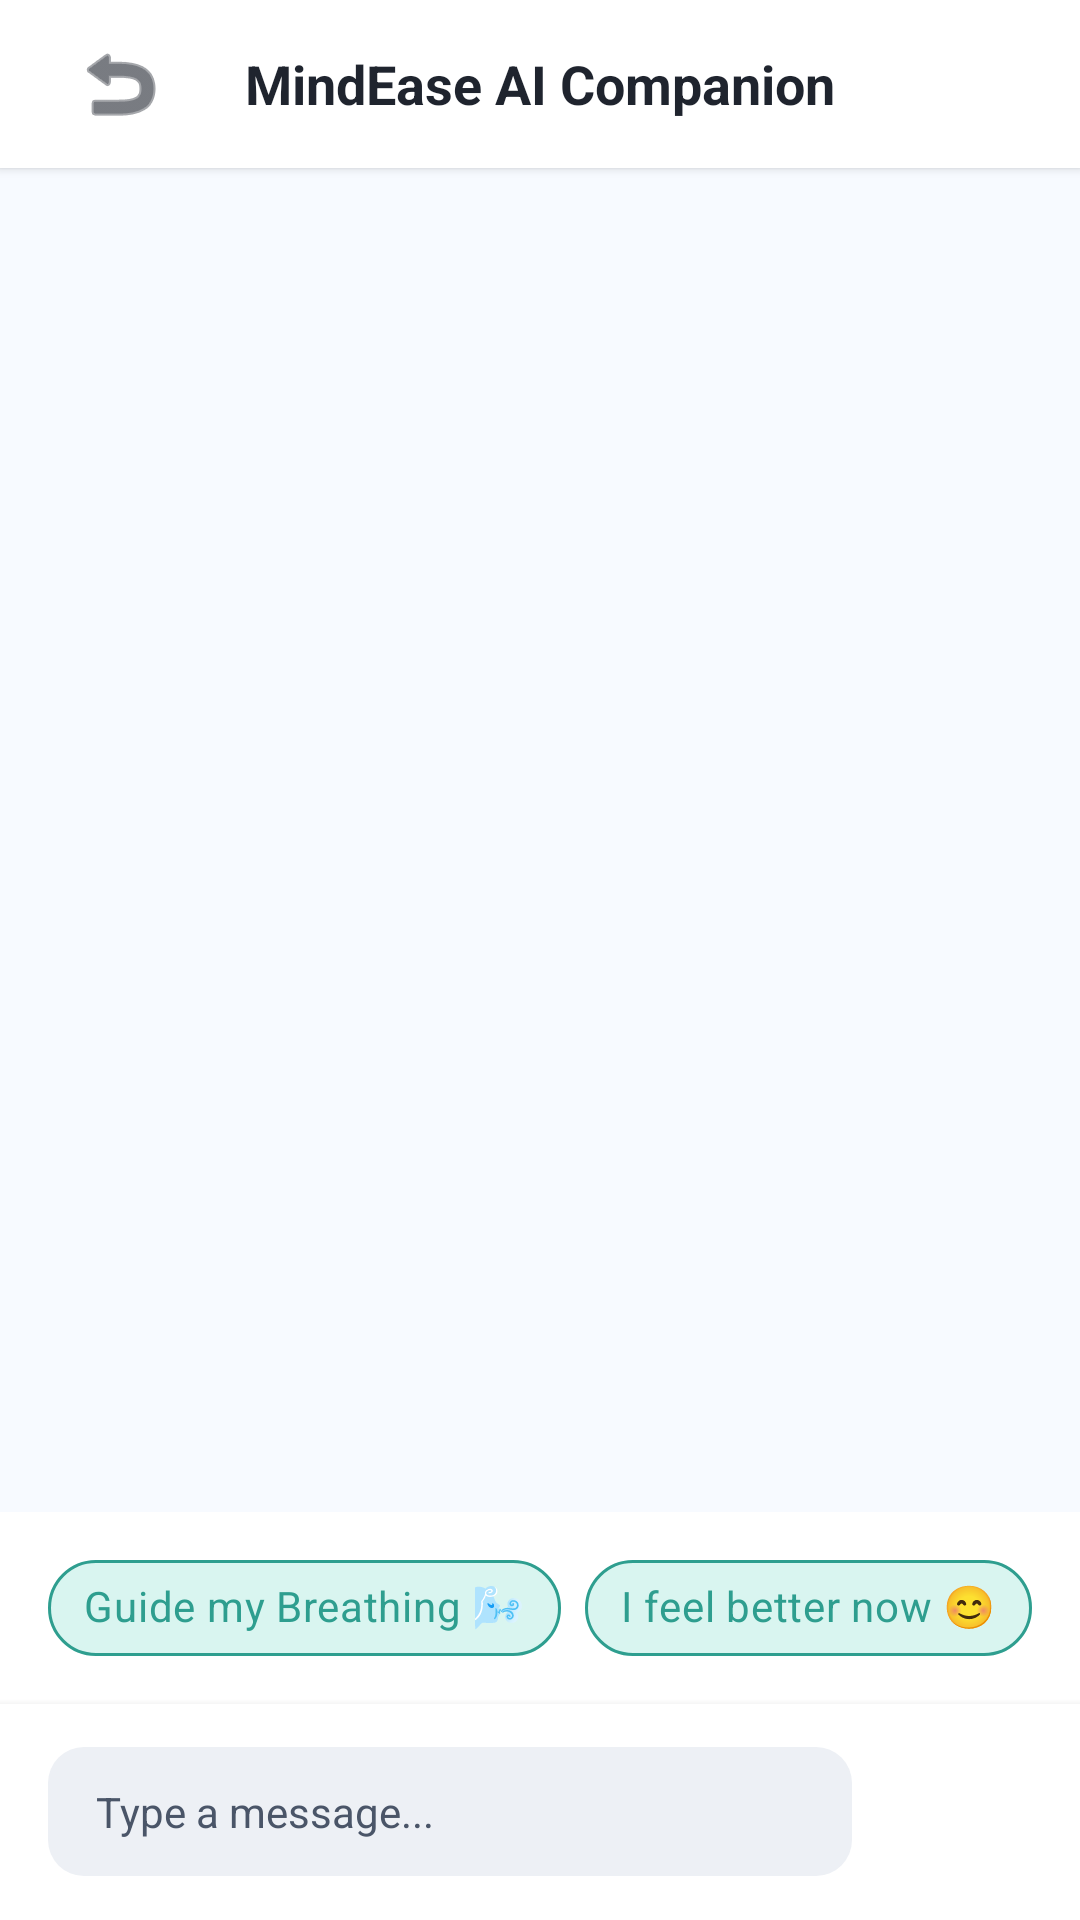

Point at icon controls on the screen. Image size 1080 × 1920, points as [x,y].
Back: [121,84]
